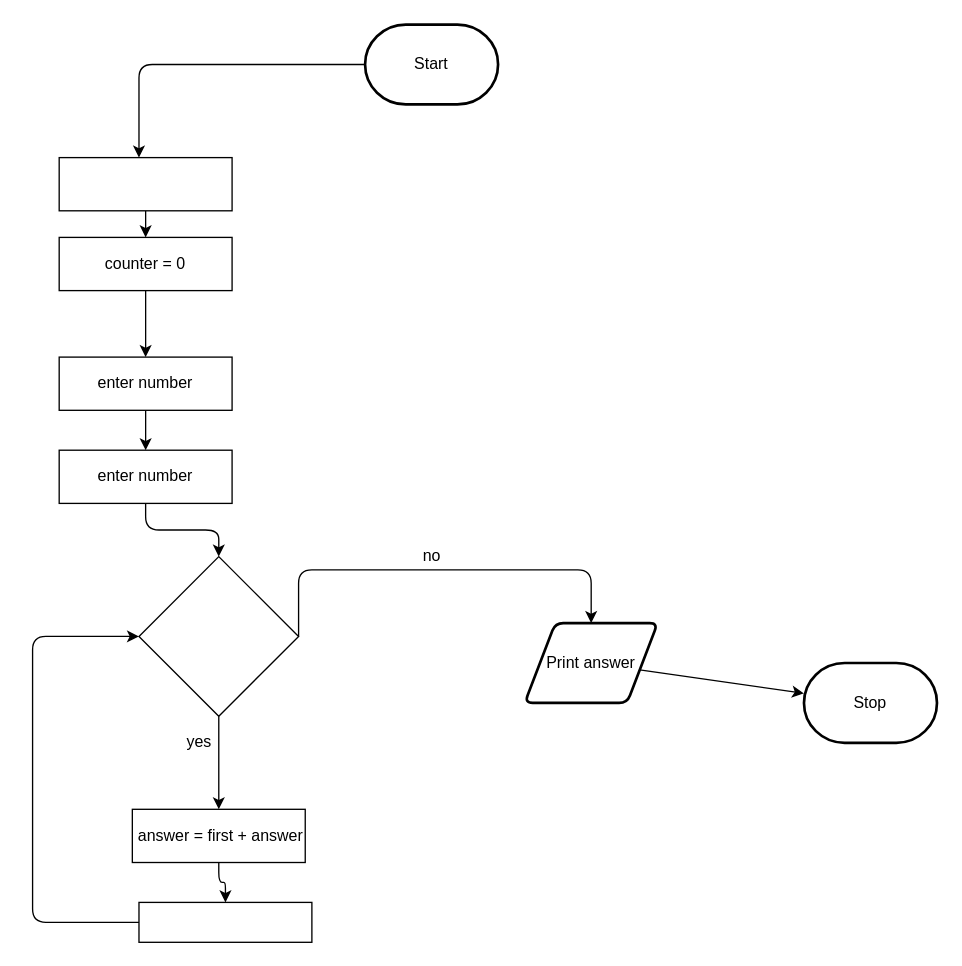
This 962x966 diagram has some shape labels left out. Each missing label, with the centre of its shape:
Counter ++: point 225,921
total = 0: point 145,183
while (counter < second) {: point 218,635
